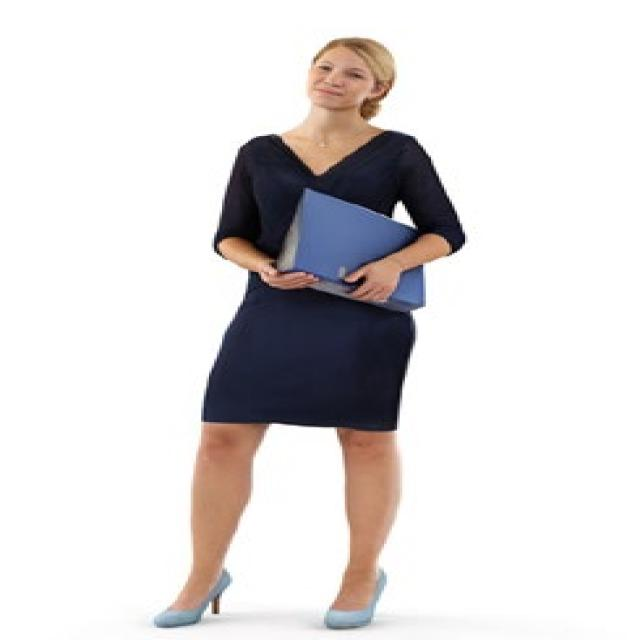standing: (147, 36, 476, 632)
